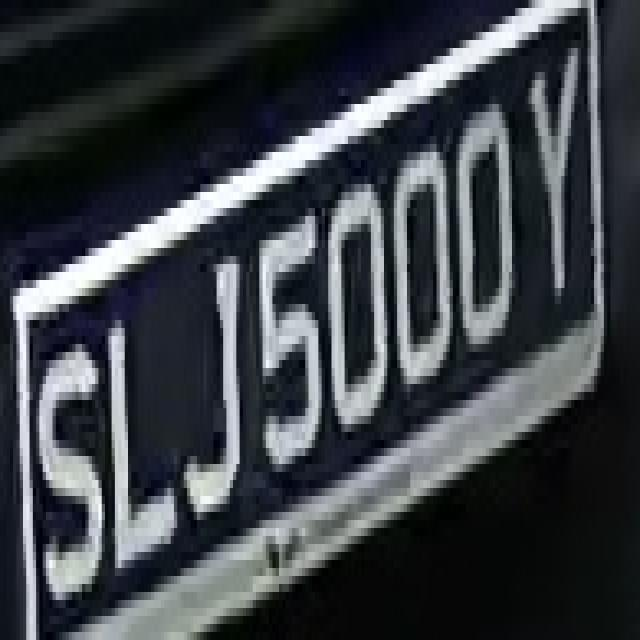0: (381, 136, 453, 416), (322, 168, 397, 432), (449, 96, 518, 352)
5: (246, 200, 322, 480)
J: (174, 216, 249, 528)
L: (92, 296, 180, 584)
S: (33, 320, 102, 592)
Y: (522, 40, 591, 312)
